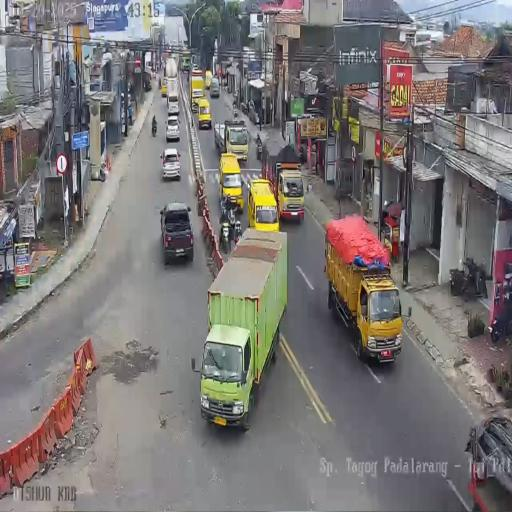3: (202, 224, 297, 428), (322, 212, 400, 363), (190, 69, 205, 110), (214, 120, 225, 152), (182, 54, 191, 72), (191, 56, 199, 72)
car: (160, 202, 194, 265), (247, 178, 278, 232), (276, 167, 304, 223), (226, 124, 249, 163), (161, 147, 181, 180), (197, 99, 212, 130), (166, 116, 180, 142), (167, 96, 180, 117), (210, 76, 220, 98), (205, 70, 212, 89), (162, 77, 168, 96)
truck: (489, 293, 512, 344), (219, 219, 232, 254), (241, 100, 248, 116), (152, 121, 157, 136)
